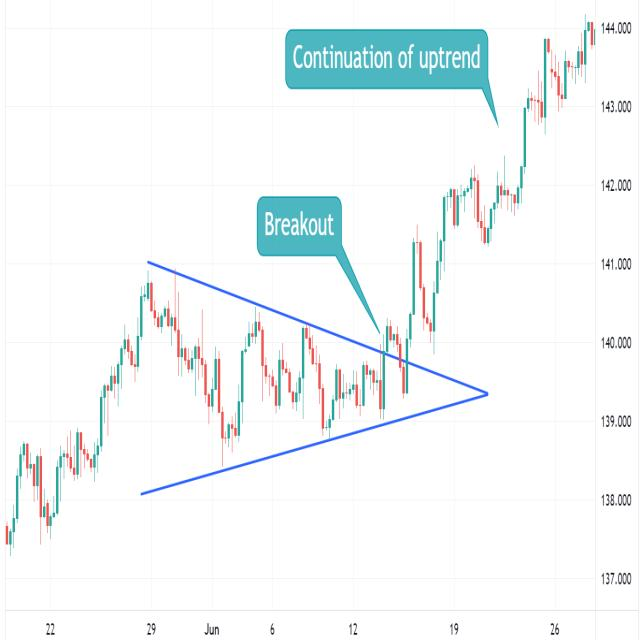Triangle: (125, 253, 475, 497)
